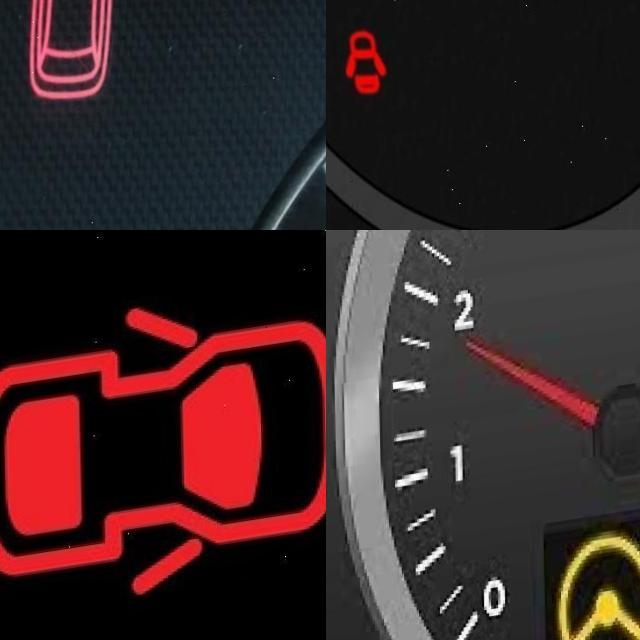Electronic Power Steering: (553, 534, 640, 640)
